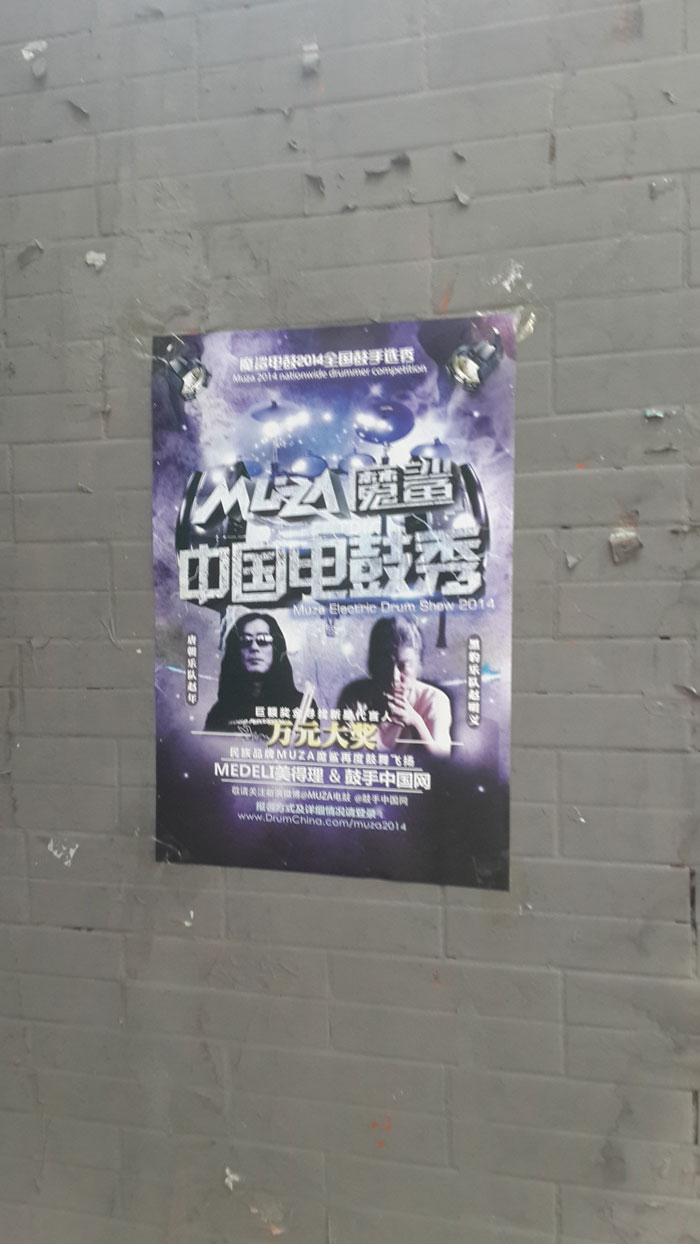bill: (149, 312, 513, 897)
